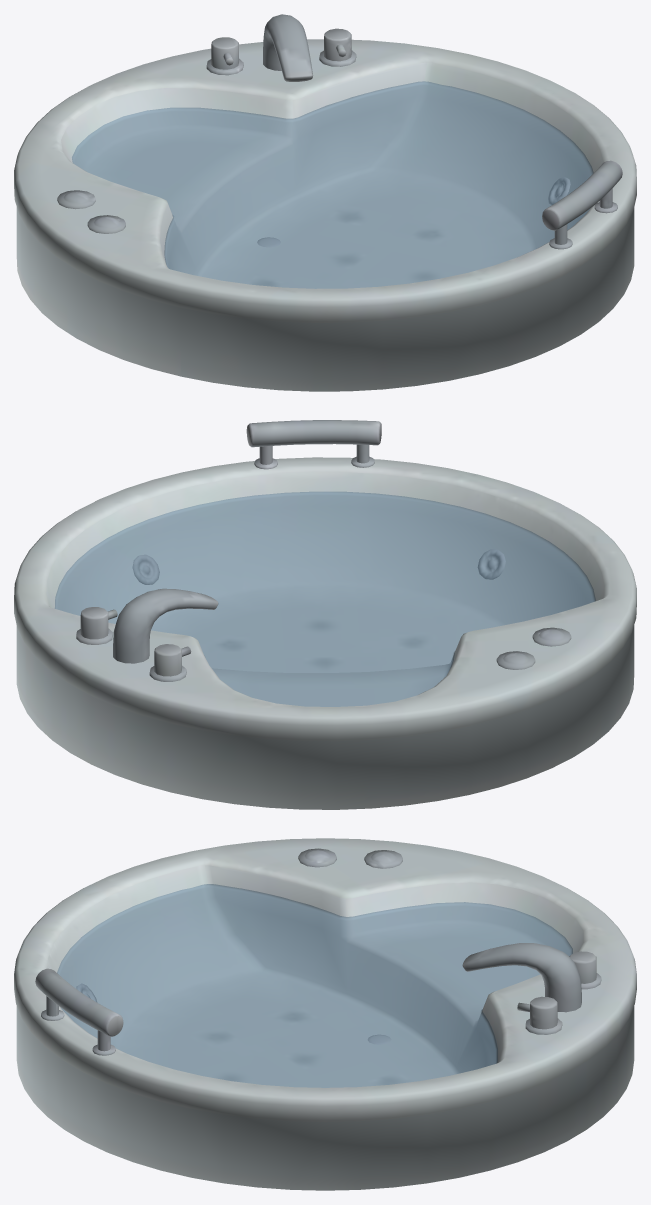
3 renders of one model, top to bottom at view 1: azimuth 30°, elevation 25°; view 2: azimuth 150°, elevation 25°; view 3: azimuth 270°, elevation 25°, orthographic.
Bounding box in the file's own units: 18.34 × 4.76 × 18.34.
2 materials, 1 textured.
